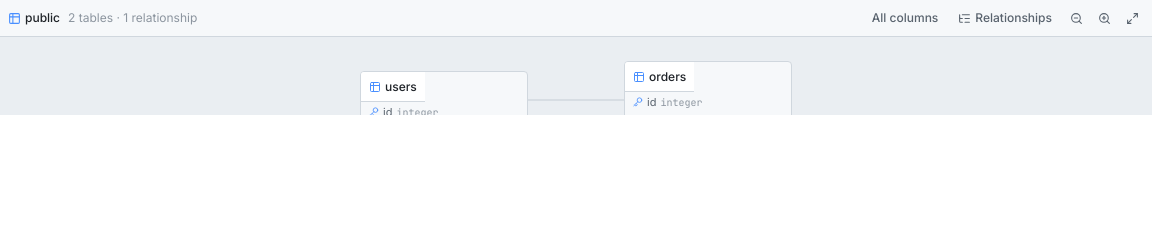
Test: ErDiagramView › lists relationships as keyboard-reachable buttons
Click the button "Relationships" at (1005, 18), box [950,6,1060,30]
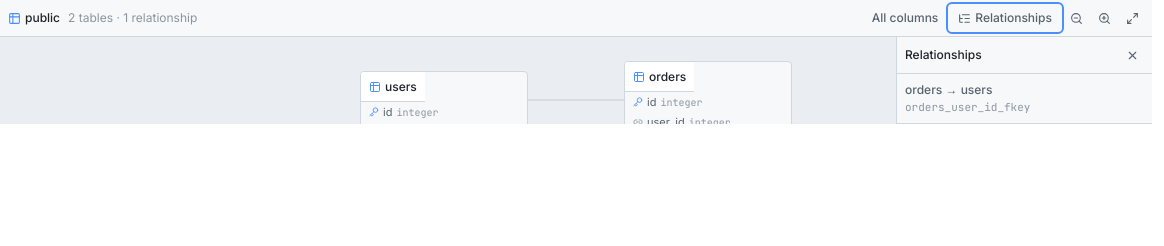
Click the button "orders → users orders_user_id_fkey" at (1024, 99), box [897,74,1152,124]
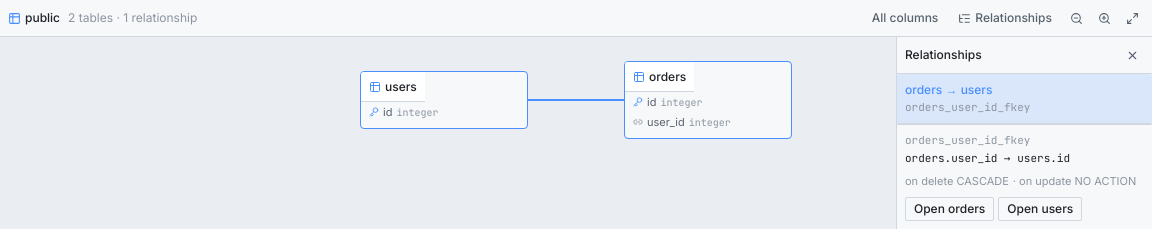
expect the list item "orders.user_id → users.id" is shown: met, box [905,151,1070,165]
